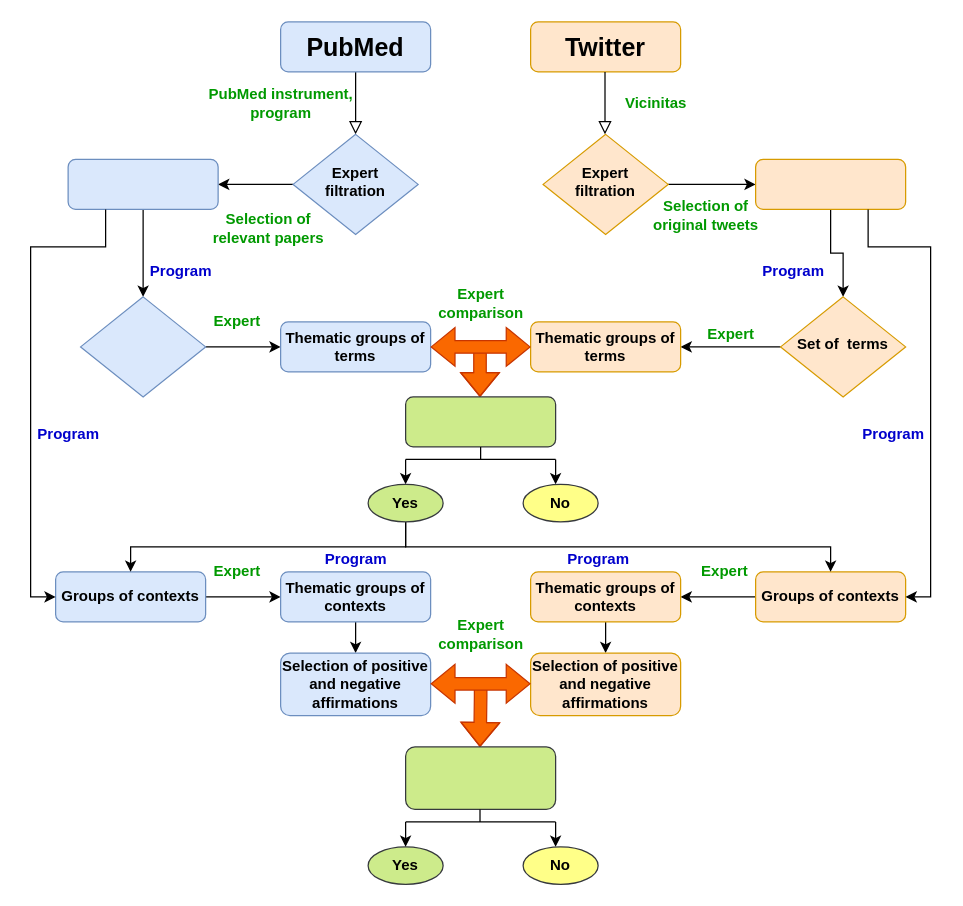
Image size: 963x906. Some labels were removed from this diagram. The box of each missing label's shape, as (x1, y1, x2, y2) in pixels:
Array of papers: (67, 158, 218, 209)
Collection of tweets: (754, 158, 906, 209)
Misinformation: (404, 746, 556, 809)
Set of scientific terms: (79, 296, 206, 397)
Сonvergence of interests: (404, 396, 556, 447)
